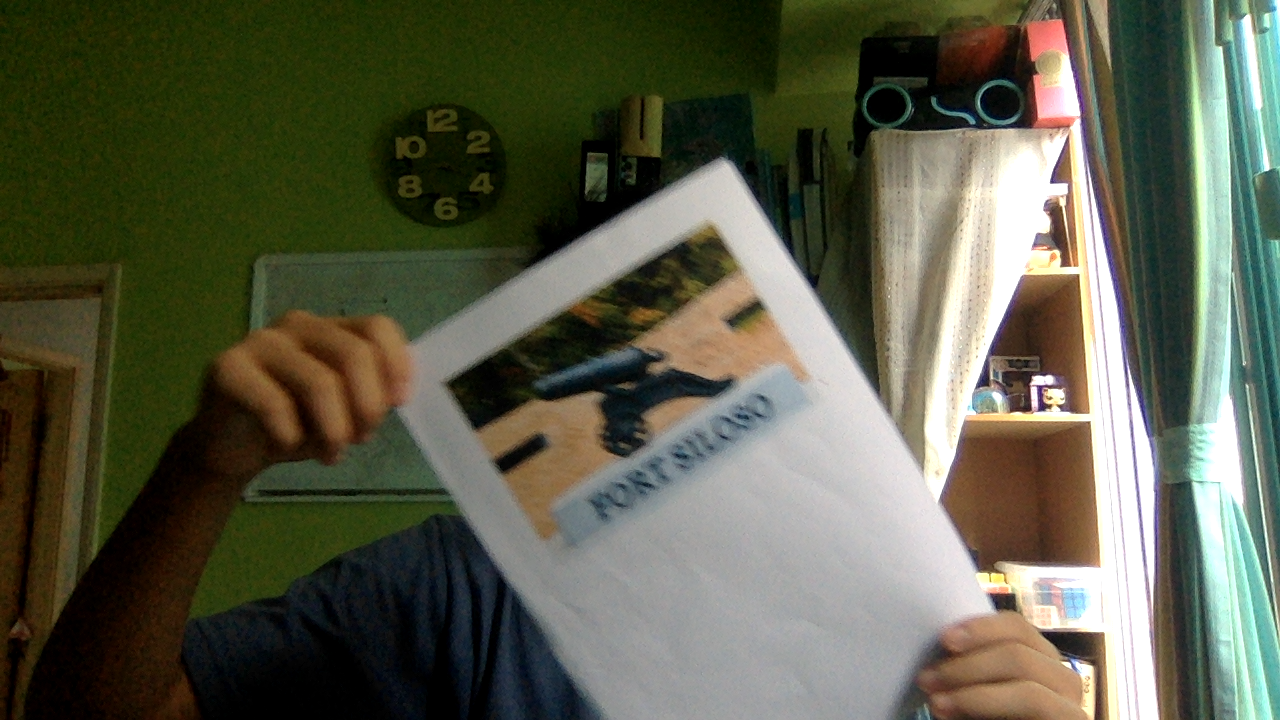siloso: (473, 303, 816, 529)
